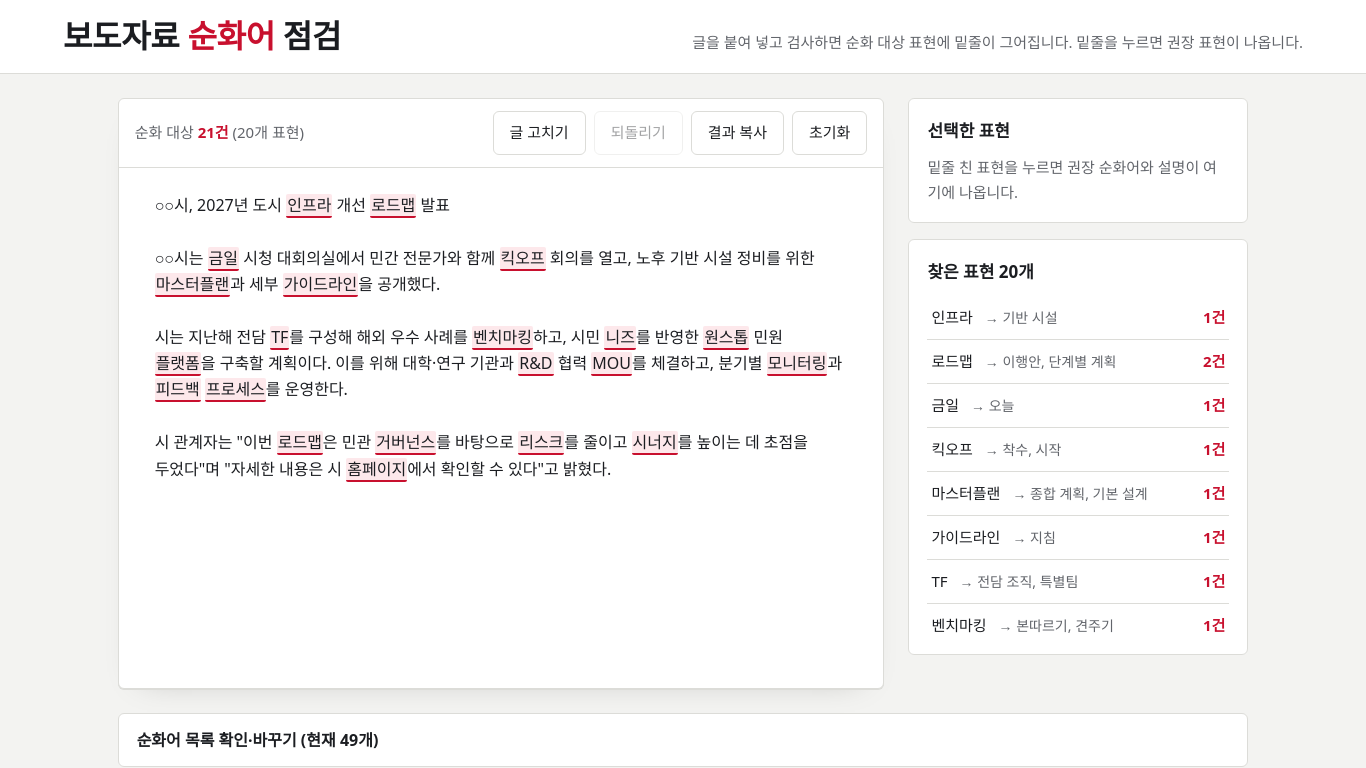
Test: 초기화하면 빈 입력칸으로 돌아간다
The image size is (1366, 768).
Expected: the text "인프라" next to "○○시, 2027년 도시" is shown, [286, 194, 332, 218]
Click the button "초기화" at (830, 133), box [792, 111, 867, 155]
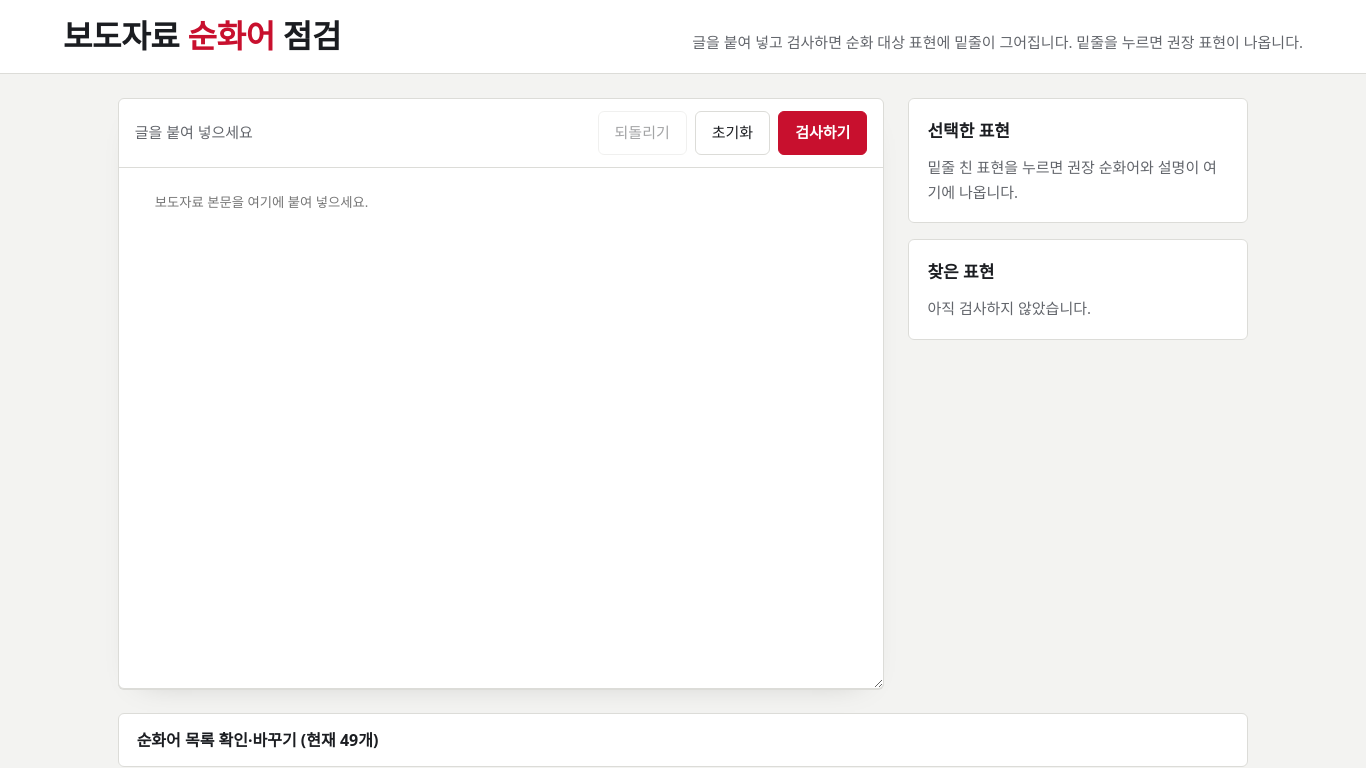
Expected: the text box with placeholder "보도자료 본문을 여기에 붙여 넣으세요." is empty, [119, 168, 883, 688]
Expected: the button "검사하기" is shown, [778, 111, 867, 155]
